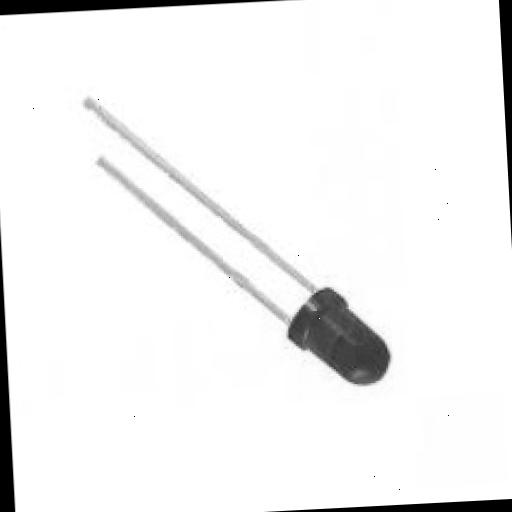LED: (48, 65, 512, 467)
